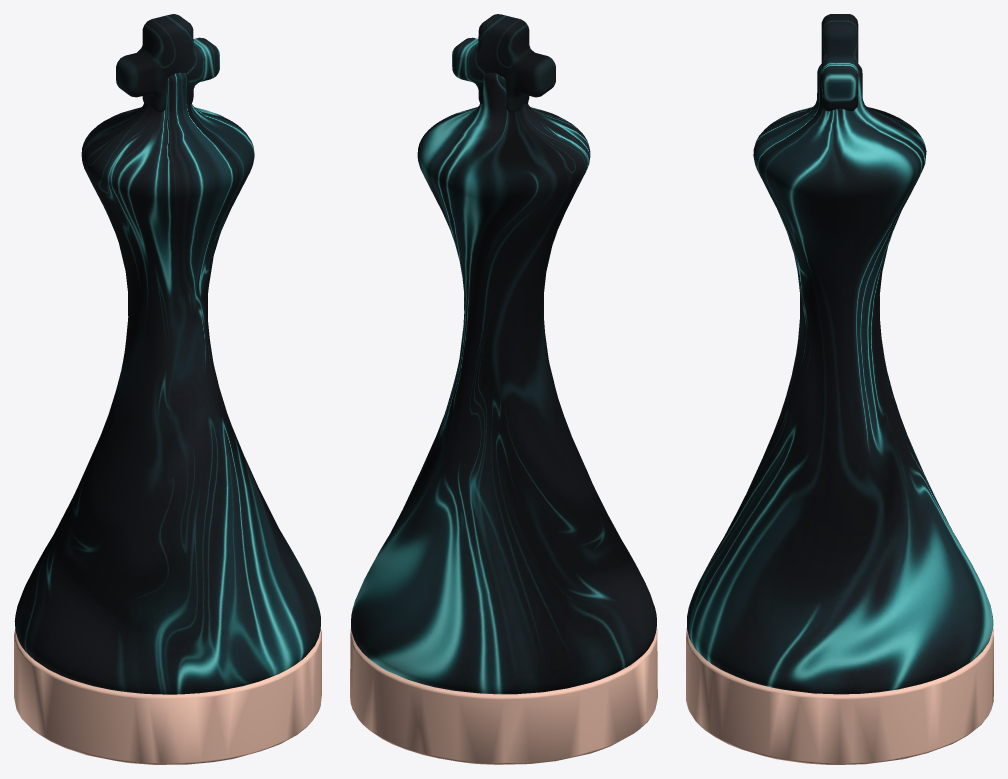
The model's file is king-black.glb.
The picture shows the model from 3 angles, left to right: view 1: azimuth 30°, elevation 25°; view 2: azimuth 150°, elevation 25°; view 3: azimuth 270°, elevation 25°; orthographic projection.
Parts seen in each view (by area): view 1: kral_cerna; view 2: kral_cerna; view 3: kral_cerna.
Part boxes in pixels (<box>): kral_cerna: <box>14,14,321,764</box>; kral_cerna: <box>350,14,657,764</box>; kral_cerna: <box>686,14,993,764</box>.
Bounding box in the file's own units: 0.675 × 1.65 × 0.6748.
Materials: 2 (1 with a texture image).
